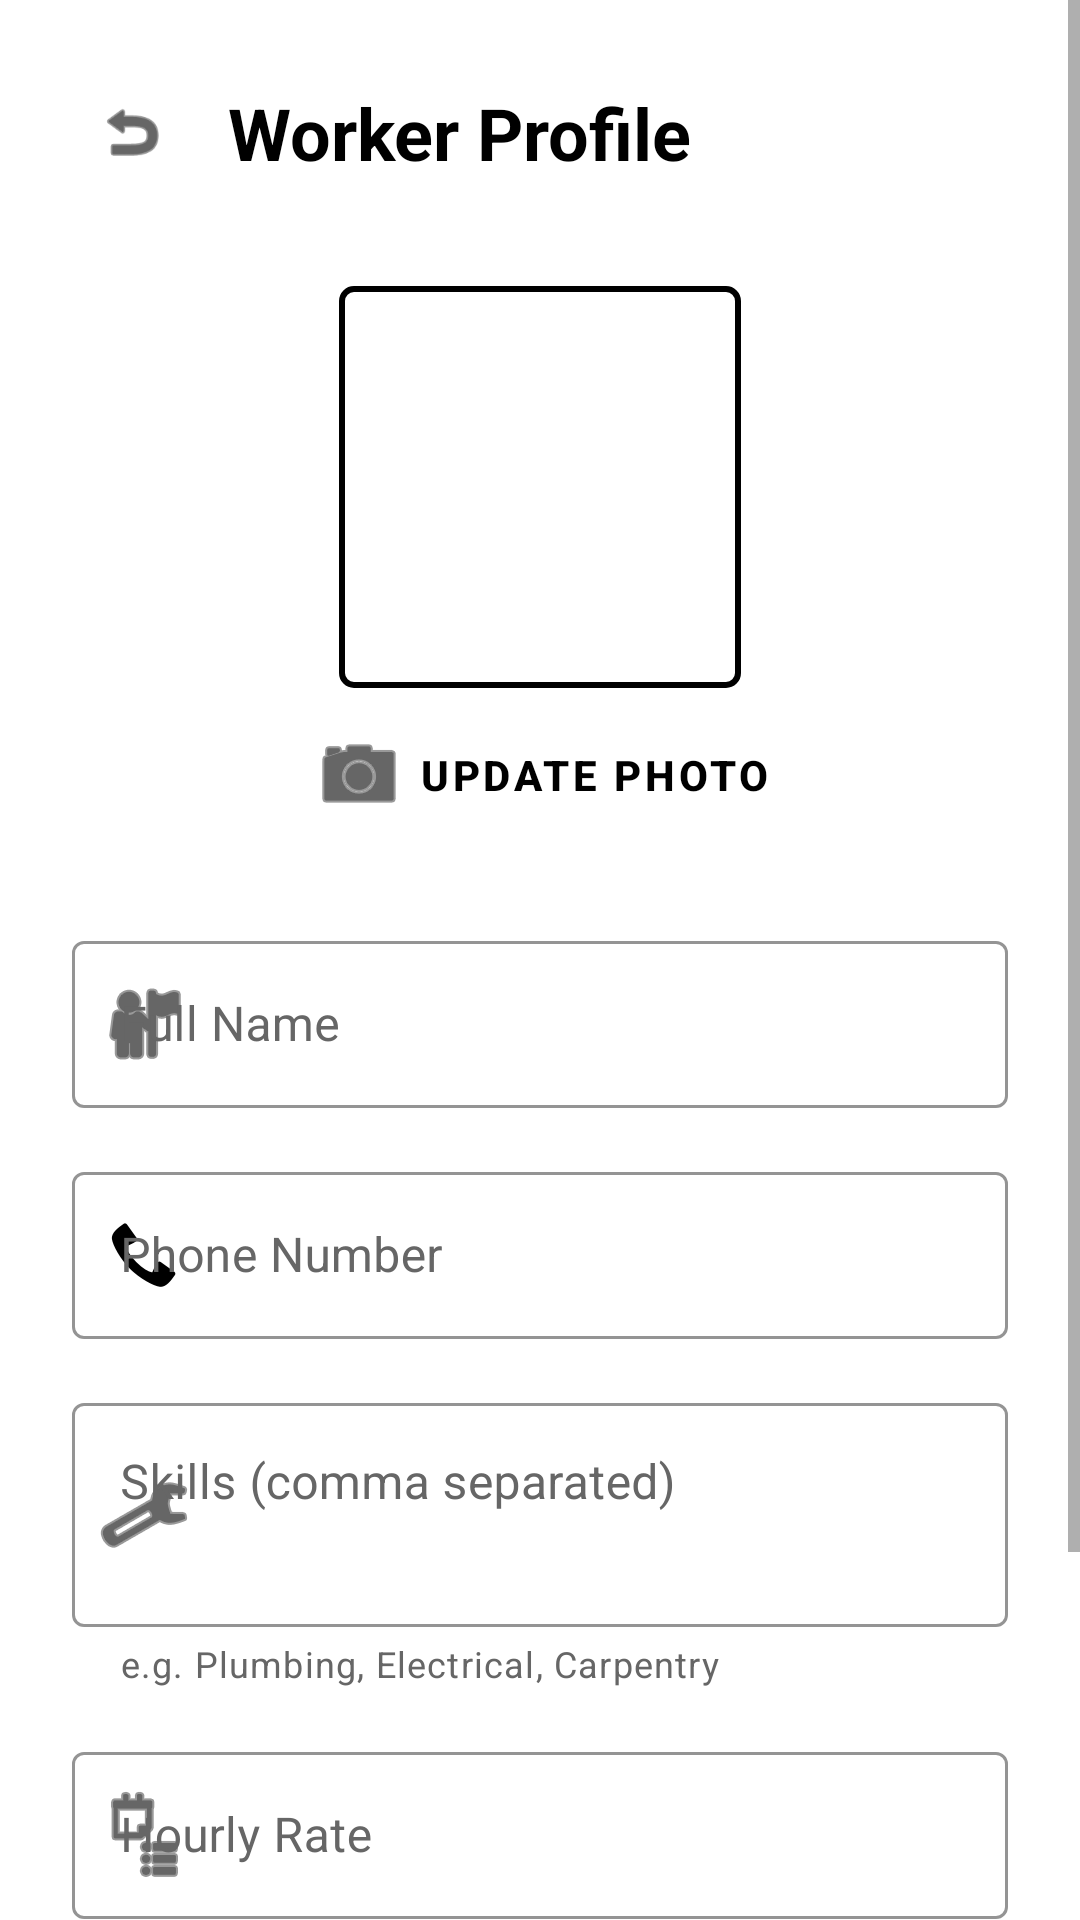

Named icons in this screenshot (1080px x 1920px) and their centers, (x=x, y=y):
Back: (x=133, y=132)
